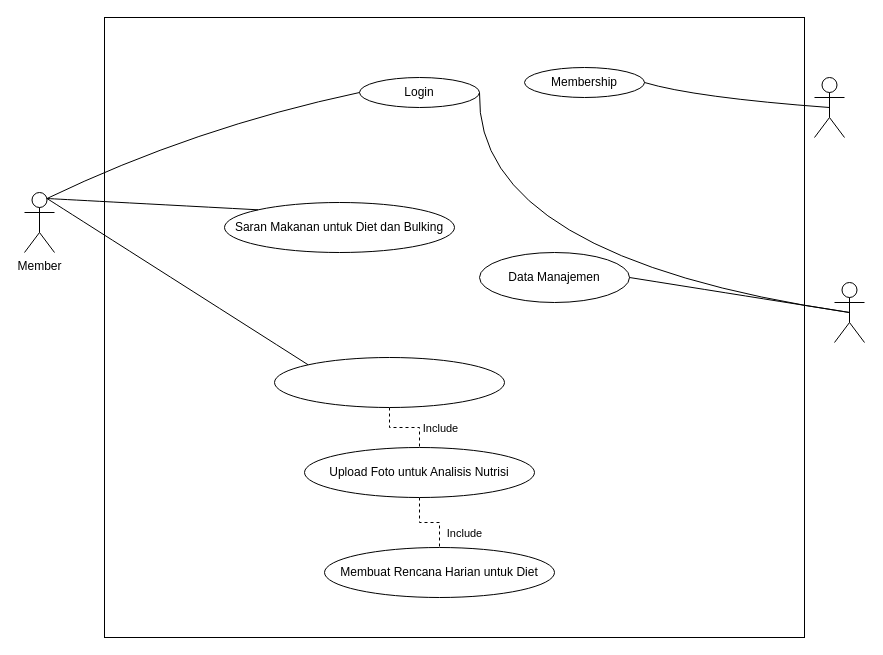
The diagram is 883 pixels wide and 655 high, and some of its shapes have lost their labels. Each missing label, with the box of its shape:
Admin: (834, 282, 864, 342)
Guess: (814, 76, 844, 138)
Menghitung Kalori & Nutrisi: (274, 356, 504, 408)
